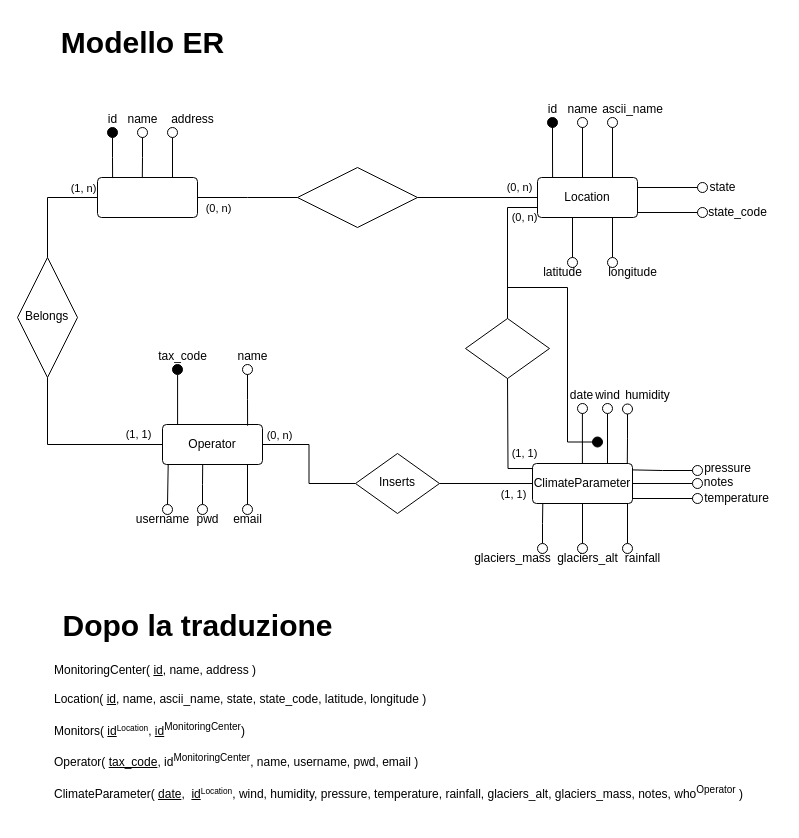
Image size: 799x838. Some labels were removed from this diagram. Here are the shapes that lost their labels. From the top down, the centre of each, then its label:
point 147,197: MonitoringCenter
point 357,197: Monitors
point 507,348: Characterizes
